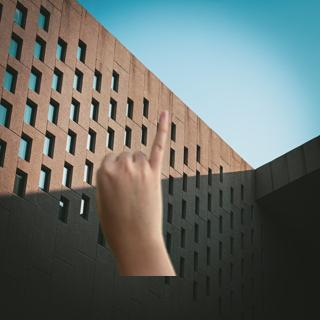Fine: (88, 101, 179, 264)
